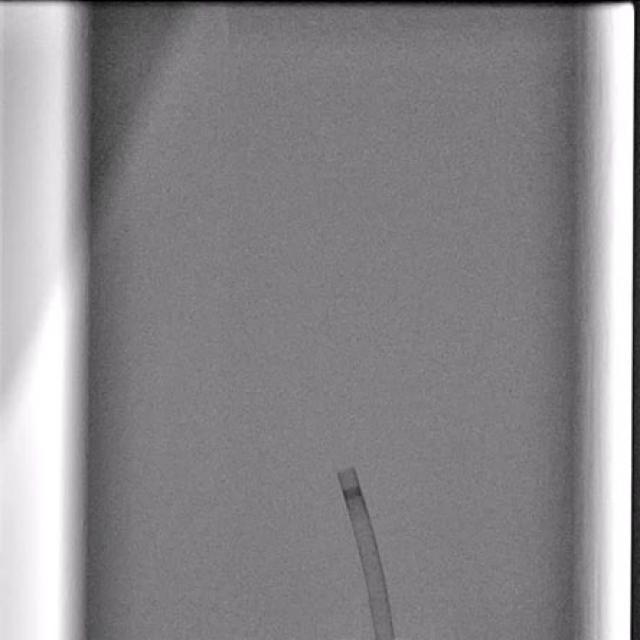bend: (366, 583, 389, 598)
entry: (375, 636, 393, 640)
marker: (340, 484, 364, 499)
tip: (337, 468, 358, 478)
